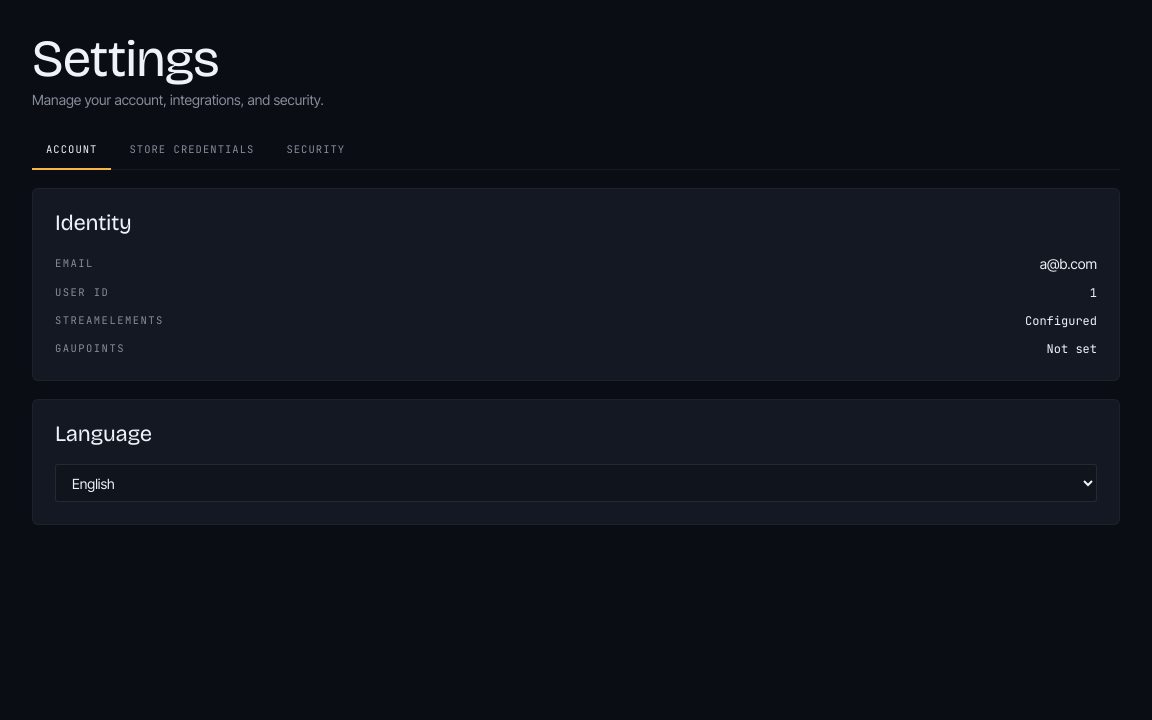
SettingsPage - error copy comes from the catalog › falls back to the catalog key when a locale change rejects without a code
This screenshot has width=1152, height=720.
Select "Português (Brasil)" in the dropdown named "Change language" at (576, 483), box [55,464,1097,502]
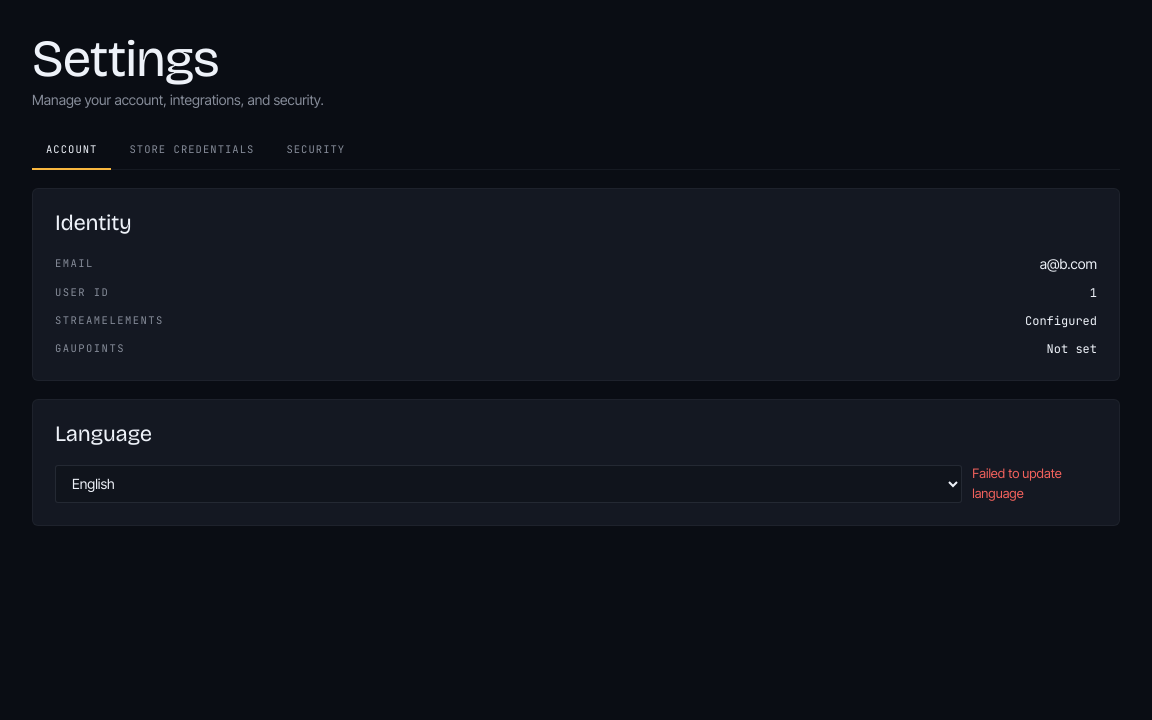
Check: the text "Failed to update language" is shown, box [972,465,1062,501]
